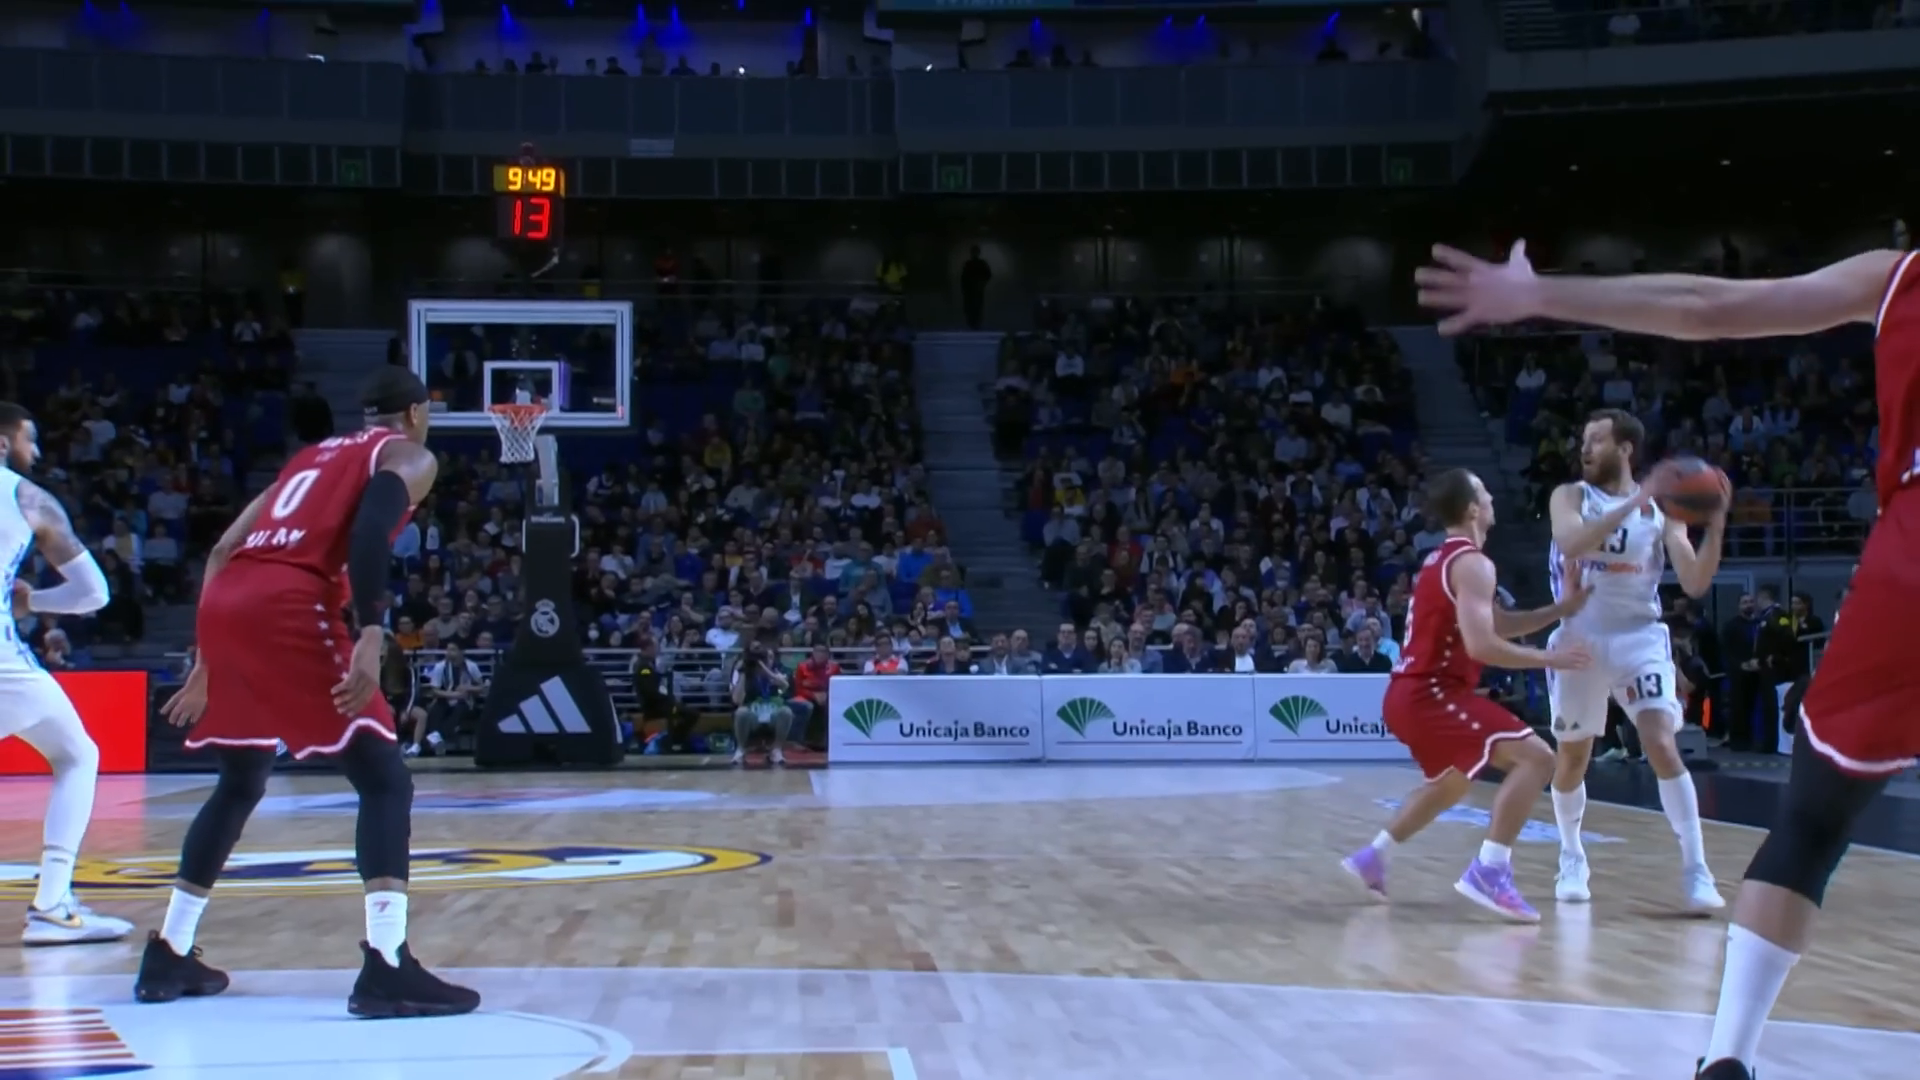ball: (1652, 454, 1735, 530)
net: (484, 400, 550, 465)
